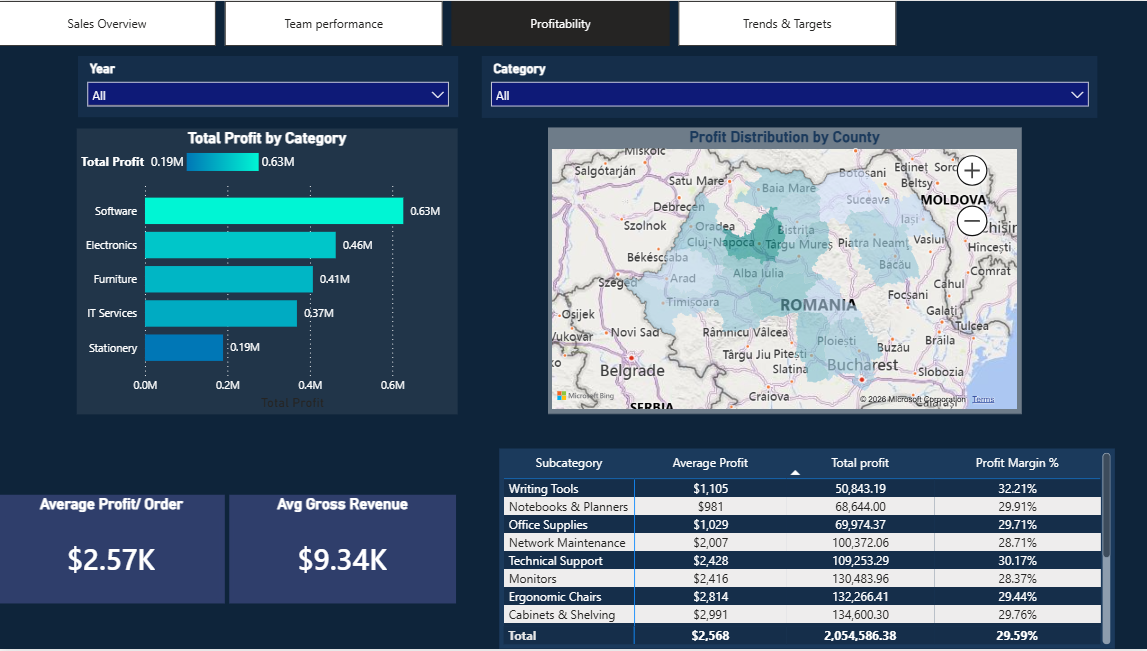

The dashboard page shown, as its layout file describes it:
{"tool":"powerbi","page":{"name":"Profitability","canvas":[1280,720],"ordinal":2},"visuals":[{"type":"barChart","title":"Total Profit by Category","fields":{"Category":["Sales.Category"],"Y":["Sales.Total profit"]},"box":[87.7,141.9,423,317.2],"z":0},{"type":"filledMap","title":"Profit Distribution by County","fields":{"Category":["Sales.County"]},"box":[611,140,526,318.1],"z":1000},{"type":"slicer","fields":{"Values":["Vanzari.Categorie"]},"box":[537,61.2,684.3,68.6],"z":2000},{"type":"pivotTable","fields":{"Rows":["Vanzari.Subcategorie"],"Values":["Sales.Average Profit","Vanzari.total profit","Vanzari.Marja profit %"]},"box":[557.1,496.7,684,222.7],"z":3000},{"type":"pageNavigator","box":[0,0,1000,50],"z":4000},{"type":"cardVisual","title":"Avg Gross Revenue","fields":{"Data":["Sales.Avg Gross Revenue"]},"box":[256.6,548.9,252,120.6],"z":5000},{"type":"cardVisual","title":"Average Profit/ Order","fields":{"Data":["Sales.Average Profit"]},"box":[0,548.9,252,120.6],"z":6000},{"type":"slicer","fields":{"Values":["Calendar.Year"]},"box":[89,61.2,422.2,68.1],"z":7001}]}

Visuals, with their boxes in screenshot pixels (x1, y1, x2, y2), scaled from the page's 1280x720 canvas onto the 1147x651 screenshot:
"Total Profit by Category" barChart: [79, 128, 458, 415]
"Profit Distribution by County" filledMap: [548, 127, 1019, 414]
slicer - Vanzari.Categorie: [481, 55, 1094, 117]
pivotTable - Vanzari.Subcategorie x Sales.Average Profit: [499, 449, 1112, 650]
pageNavigator: [0, 0, 896, 45]
"Avg Gross Revenue" cardVisual: [230, 496, 456, 605]
"Average Profit/ Order" cardVisual: [0, 496, 226, 605]
slicer - Calendar.Year: [80, 55, 458, 117]
